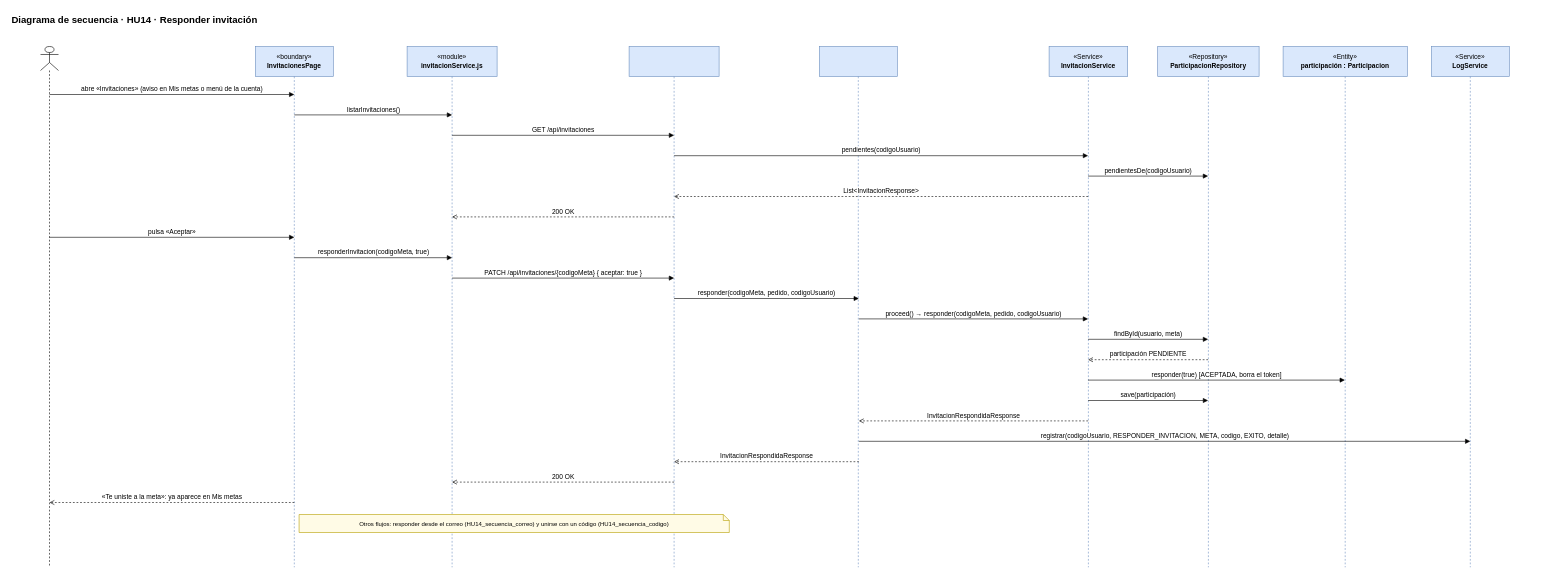
Image size: 1543x578. Some labels were removed from this diagram. Each missing label, with the box of its shape:
Invitado: (40, 46, 58, 567)
«Aspect» AuditoriaAspect: (819, 46, 897, 567)
«RestController» InvitacionController: (628, 46, 719, 567)
